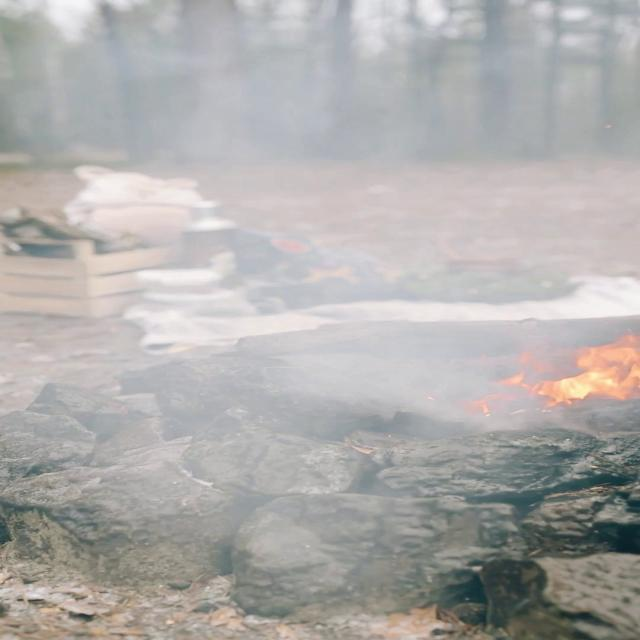Fire: (543, 308, 640, 397)
Smoke: (0, 0, 606, 560)
